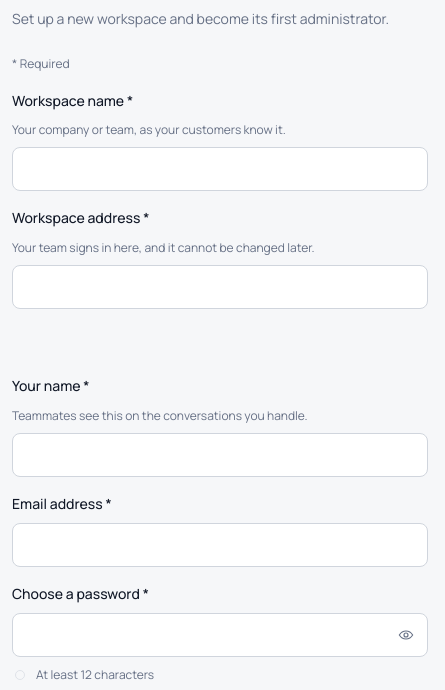
Test: SignupForm › uses signup’s own wording for a throttled attempt, not the sign-in lockout’s
The image size is (445, 690).
Step 1. Type "Northwind Support" into the field labelled "Workspace name *" → (220, 169), box top-left (12, 147), bottom-right (428, 191)
Step 2. Type "northwind" into the field labelled "Workspace address *" → (220, 287), box top-left (12, 265), bottom-right (428, 309)
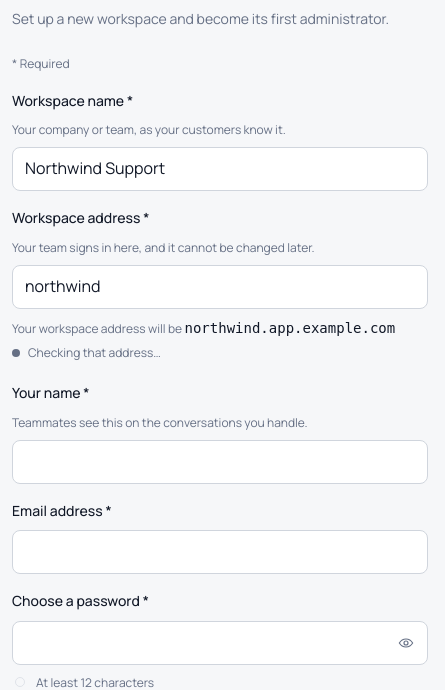
Step 3. Type "Amina Haddad" into the field labelled "Your name *" → (220, 462), box top-left (12, 440), bottom-right (428, 484)
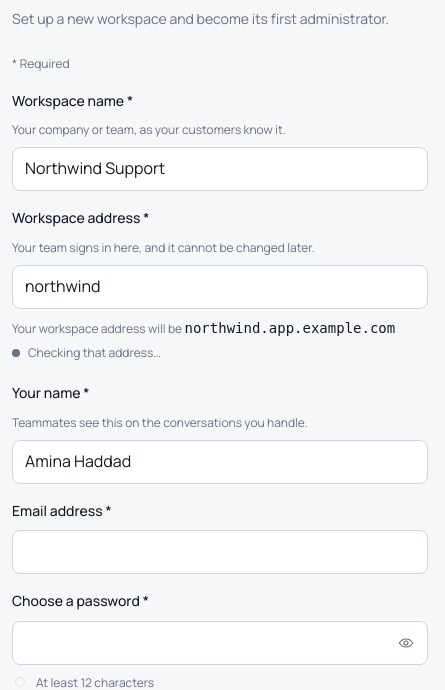
Step 4. Type "amina@northwind.example" into the field labelled "Email address *" → (220, 552), box top-left (12, 530), bottom-right (428, 574)
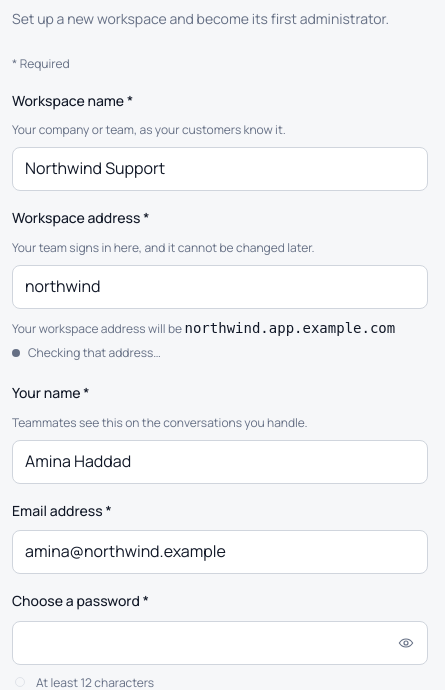
Step 5. Type "a-perfectly-fine-passphrase" into the password field labelled "Choose a password *" → (220, 643), box top-left (12, 621), bottom-right (428, 665)
(page scrolled)
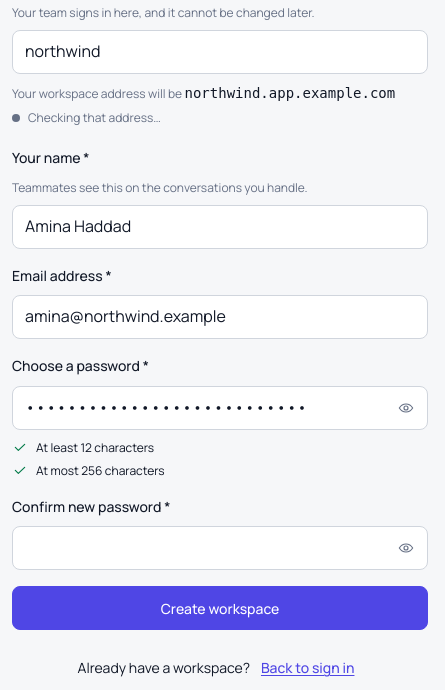
Step 6. Type "a-perfectly-fine-passphrase" into the password field labelled "Confirm new password *" → (220, 548), box top-left (12, 526), bottom-right (428, 570)
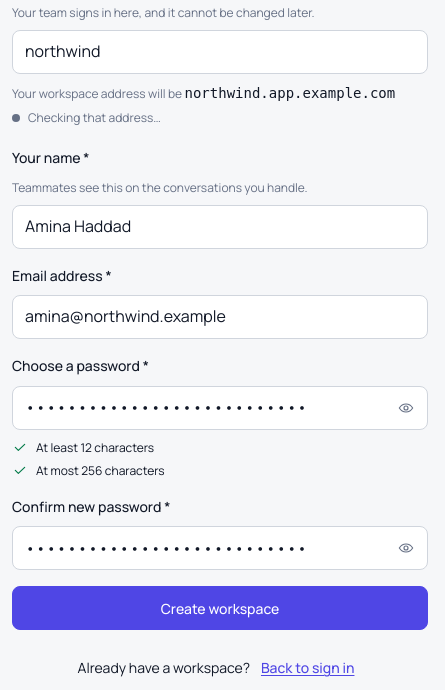
Step 7. Click the button "Create workspace" → (220, 608), box top-left (12, 586), bottom-right (428, 630)
(page scrolled)
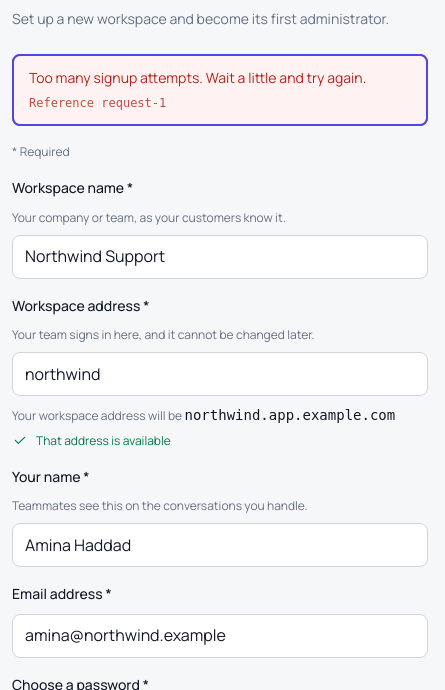
Expected: the message "Too many signup attempts. Wait a little and try again. Reference request-1" does not show "failed sign-in attempts", top-left (12, 54), bottom-right (428, 126)
Result: the message "Too many signup attempts. Wait a little and try again. Reference request-1" is shown at top-left (12, 54), bottom-right (428, 126)
